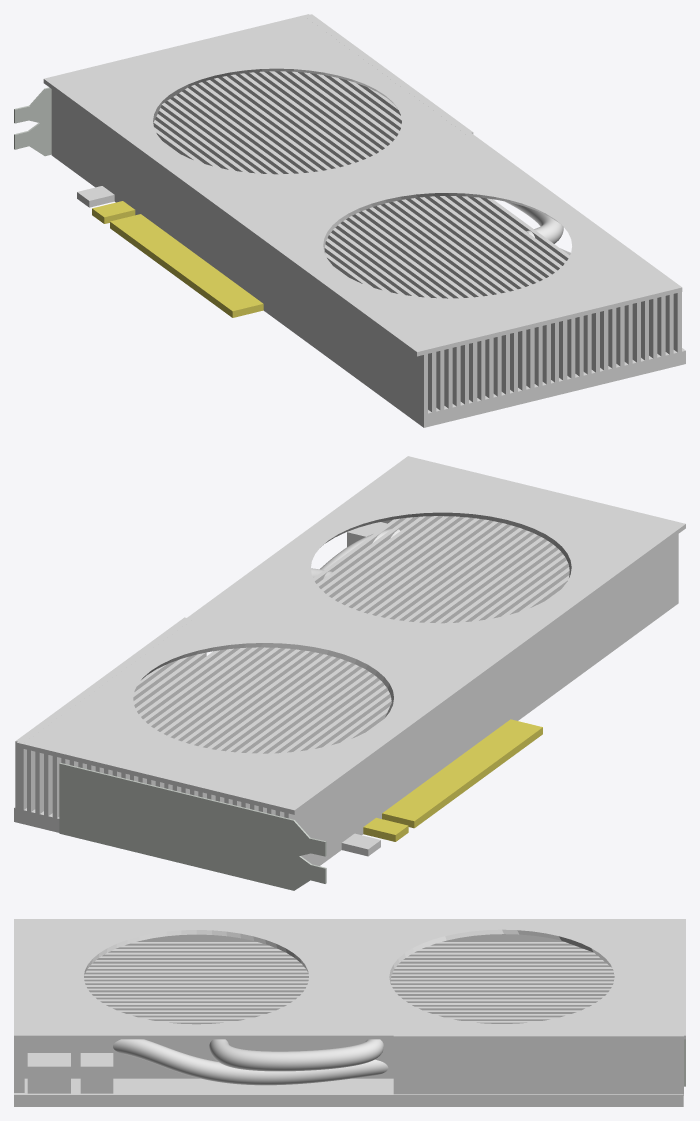
The model's file is GPUblend.fbx.
3 renders of one model, top to bottom at view 1: azimuth 30°, elevation 25°; view 2: azimuth 150°, elevation 25°; view 3: azimuth 270°, elevation 25°, orthographic. The views are drawn at different scales.
Parts seen in each view (by area): view 1: GPU+Shroud, NurbsPath; view 2: GPU+Shroud; view 3: GPU+Shroud, NurbsPath.001, NurbsPath.
Boxes of the visible parts, x1,y1,x2,y2 form: GPU+Shroud: (14,14,685,427); NurbsPath: (505,201,563,243); GPU+Shroud: (14,456,685,890); GPU+Shroud: (14,919,685,1106); NurbsPath.001: (113,1039,388,1085); NurbsPath: (209,1039,383,1071).
Bounding box in the file's own units: 383 × 93.03 × 812.
